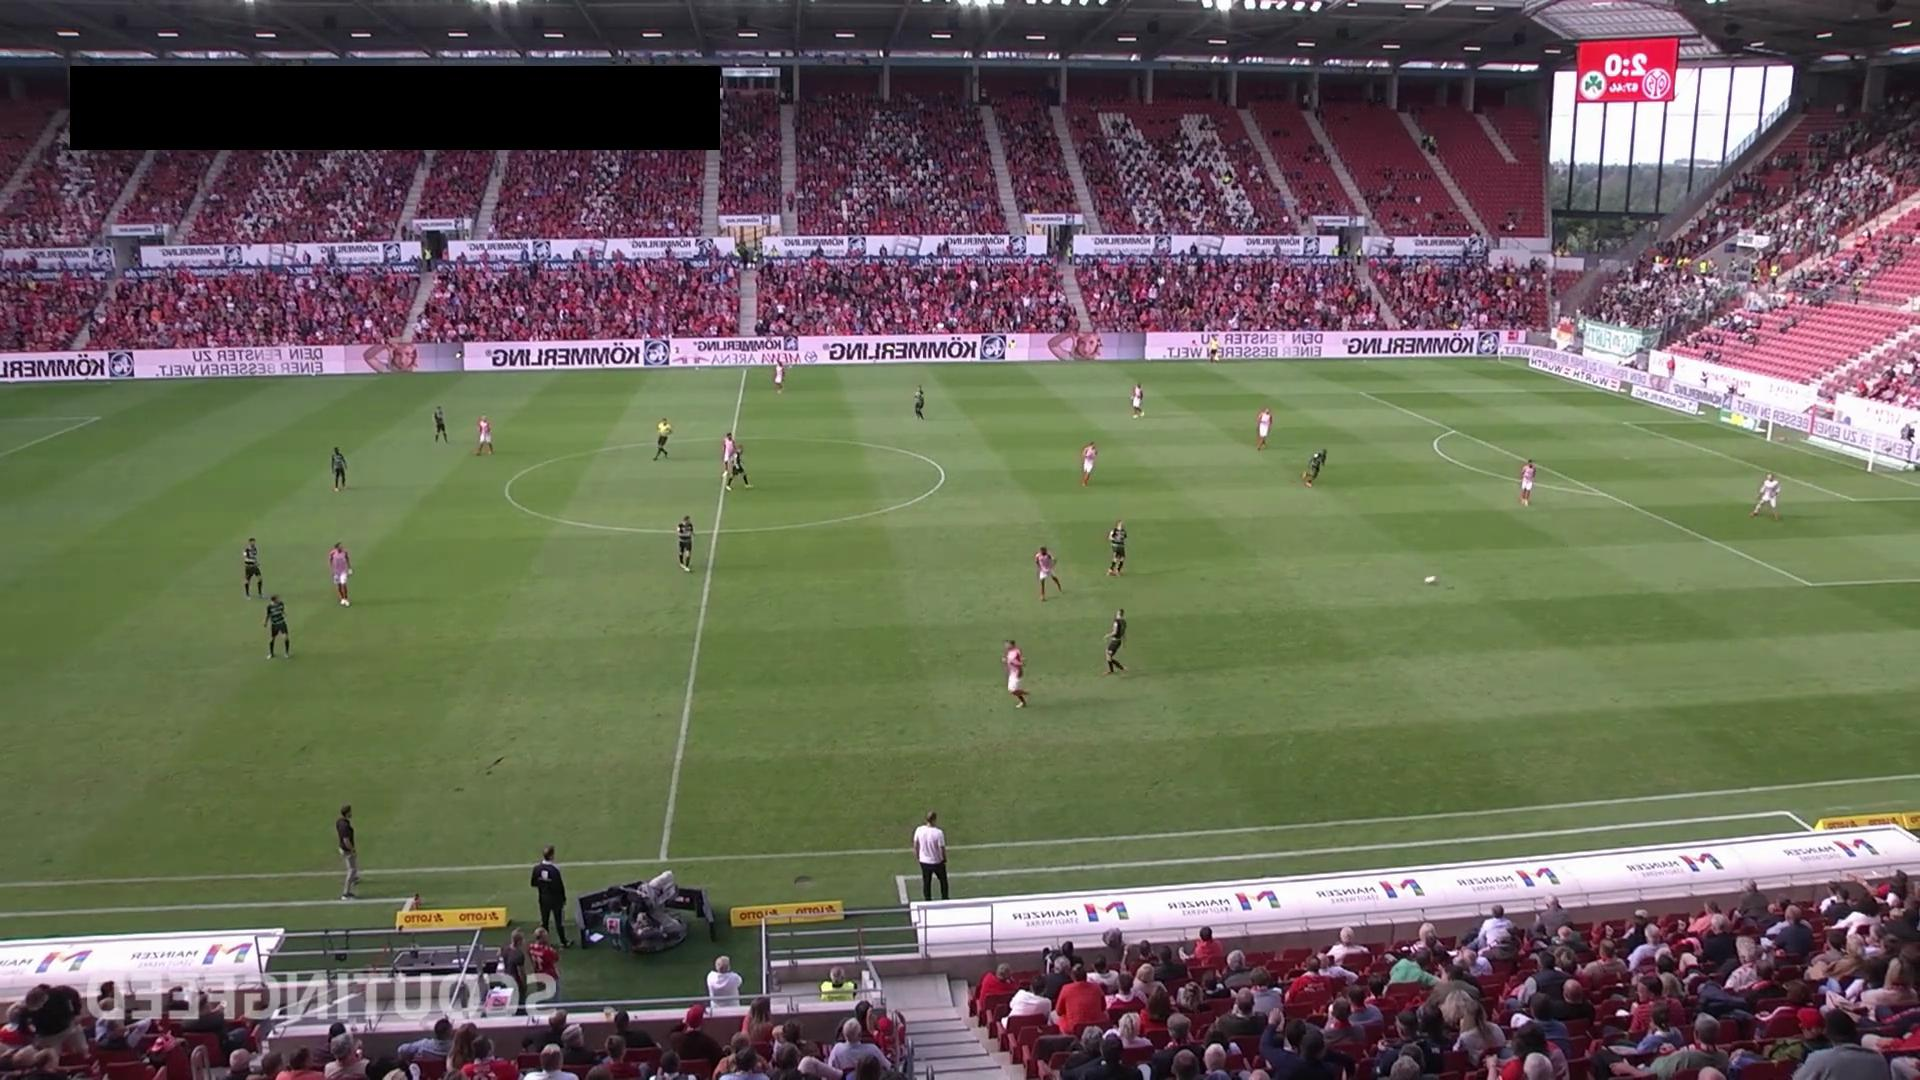ball: (1423, 573, 1437, 589)
goalkeeper: (1749, 471, 1782, 521)
player: (262, 593, 292, 660), (1002, 638, 1029, 709), (1100, 608, 1128, 676), (328, 541, 353, 607), (1034, 546, 1063, 602), (242, 537, 265, 599), (1106, 519, 1128, 577), (1300, 447, 1329, 489), (725, 445, 751, 491), (676, 514, 694, 571), (474, 414, 494, 456), (1519, 458, 1536, 507), (721, 432, 737, 484), (1080, 441, 1098, 486), (331, 445, 348, 492), (1256, 406, 1272, 451), (433, 405, 449, 444), (1130, 382, 1144, 418), (773, 361, 786, 394), (913, 386, 925, 420)
referee: (652, 416, 673, 461), (1206, 335, 1220, 366)
